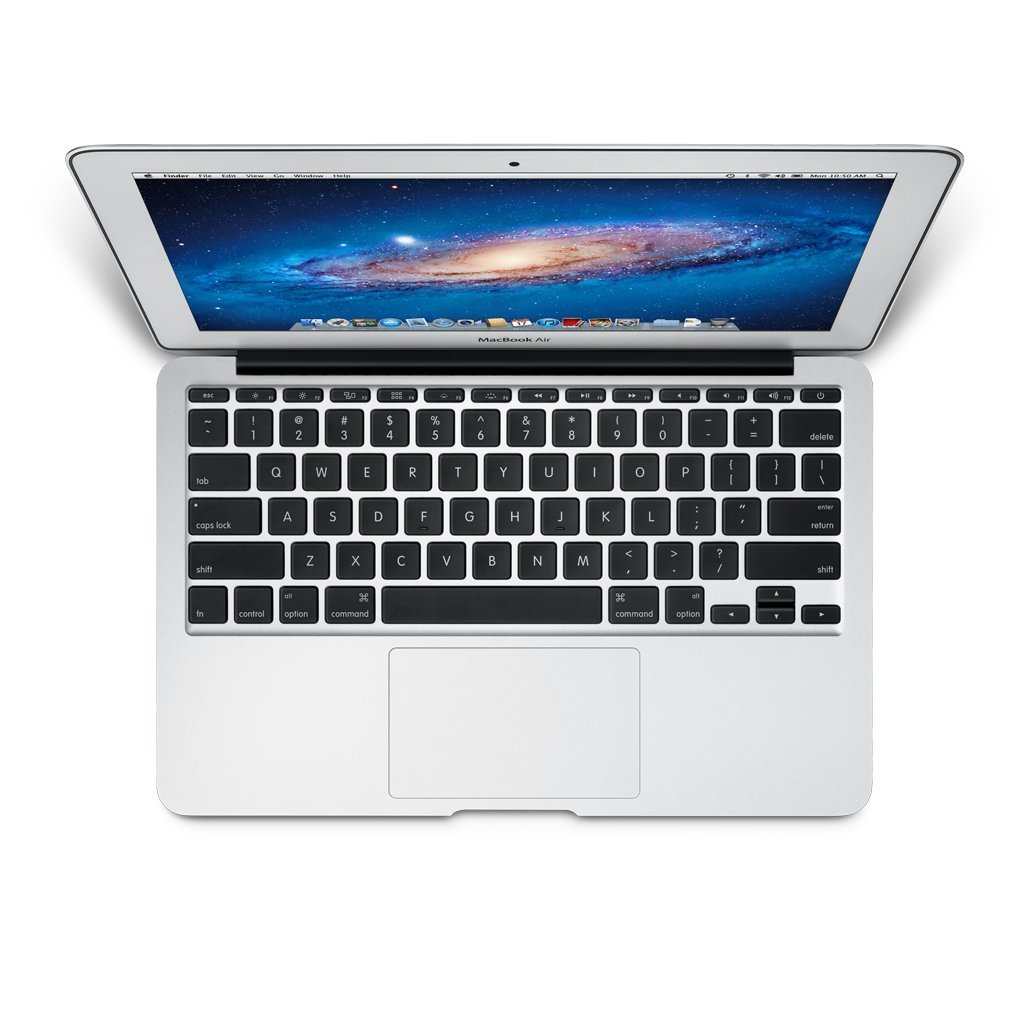Apple: (465, 328, 574, 349)
